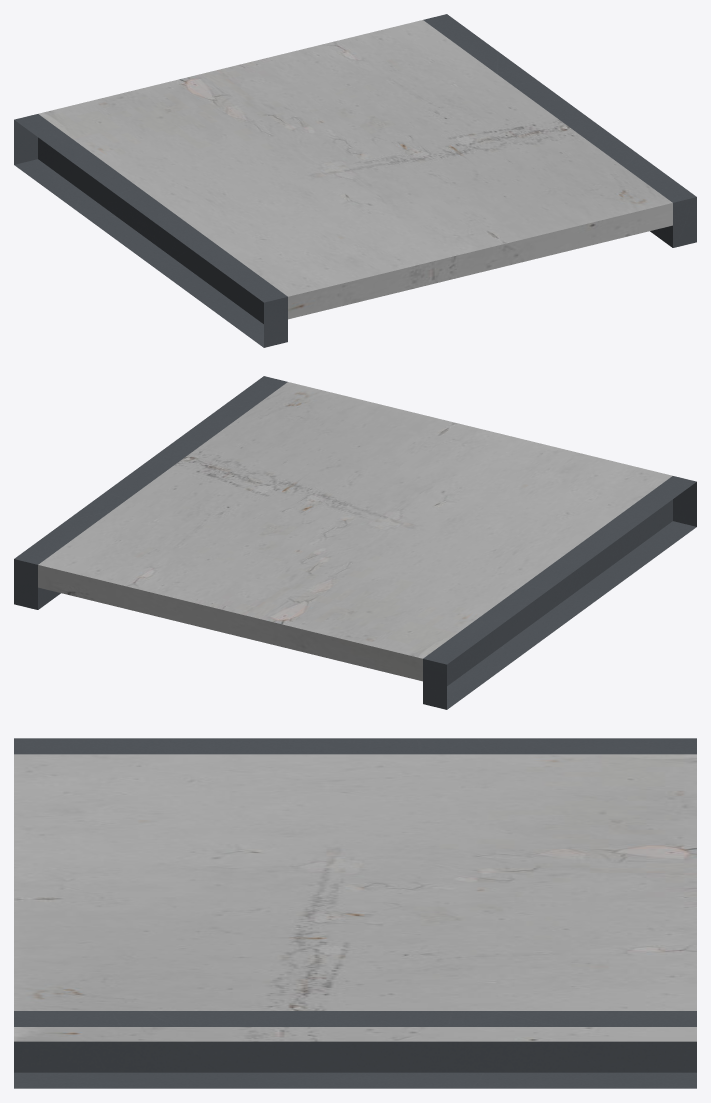
File: RoofStraight.glb
3 renders of one model, top to bottom at view 1: azimuth 30°, elevation 25°; view 2: azimuth 150°, elevation 25°; view 3: azimuth 270°, elevation 25°, orthographic. The views are drawn at different scales.
Parts seen in each view (by area): view 1: RoofStraight; view 2: RoofStraight; view 3: RoofStraight.
Part boxes in pixels (x1=…): RoofStraight: x1=14, y1=14, x2=696, y2=347; RoofStraight: x1=14, y1=376, x2=696, y2=709; RoofStraight: x1=14, y1=738, x2=696, y2=1088.
Size of the model in its own units: 8 by 0.7997 by 8.
Materials: 2 (2 with a texture image).
